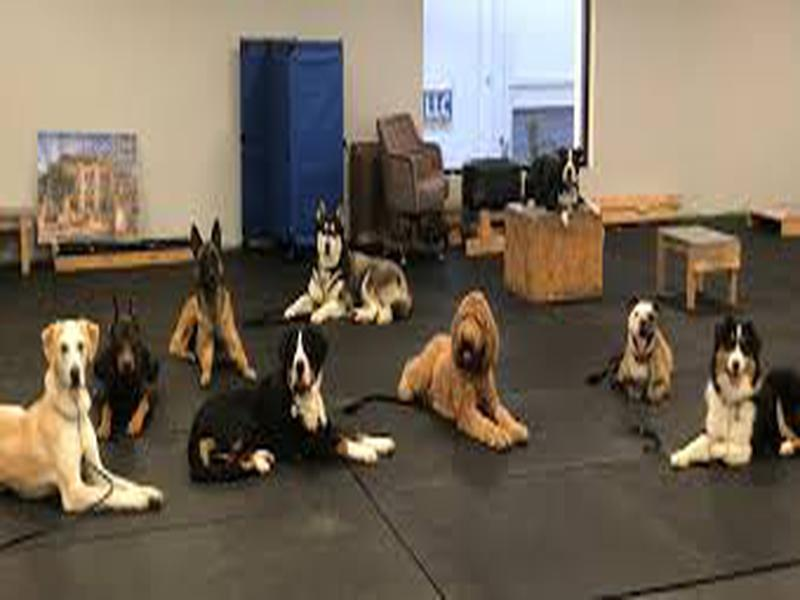dog_down: (185, 327, 396, 491), (1, 318, 165, 513), (396, 288, 531, 457), (670, 317, 800, 466), (272, 198, 413, 329), (162, 218, 256, 387), (582, 293, 683, 407), (90, 293, 159, 440), (517, 147, 606, 228)
